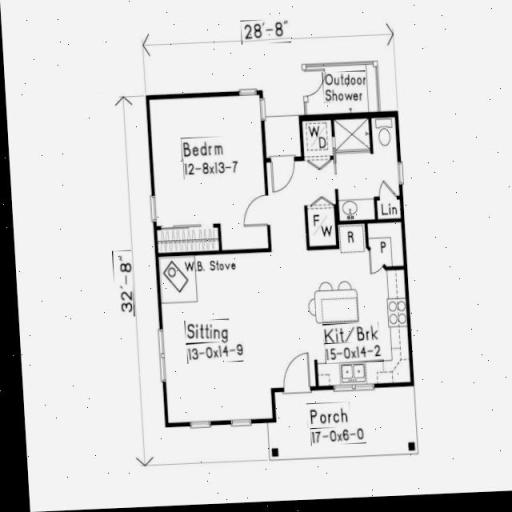bathroom: (308, 66, 379, 120)
bedroom: (152, 100, 259, 251)
hall: (168, 258, 278, 418)
kitchen: (284, 252, 401, 386)
porch: (282, 400, 439, 465)
